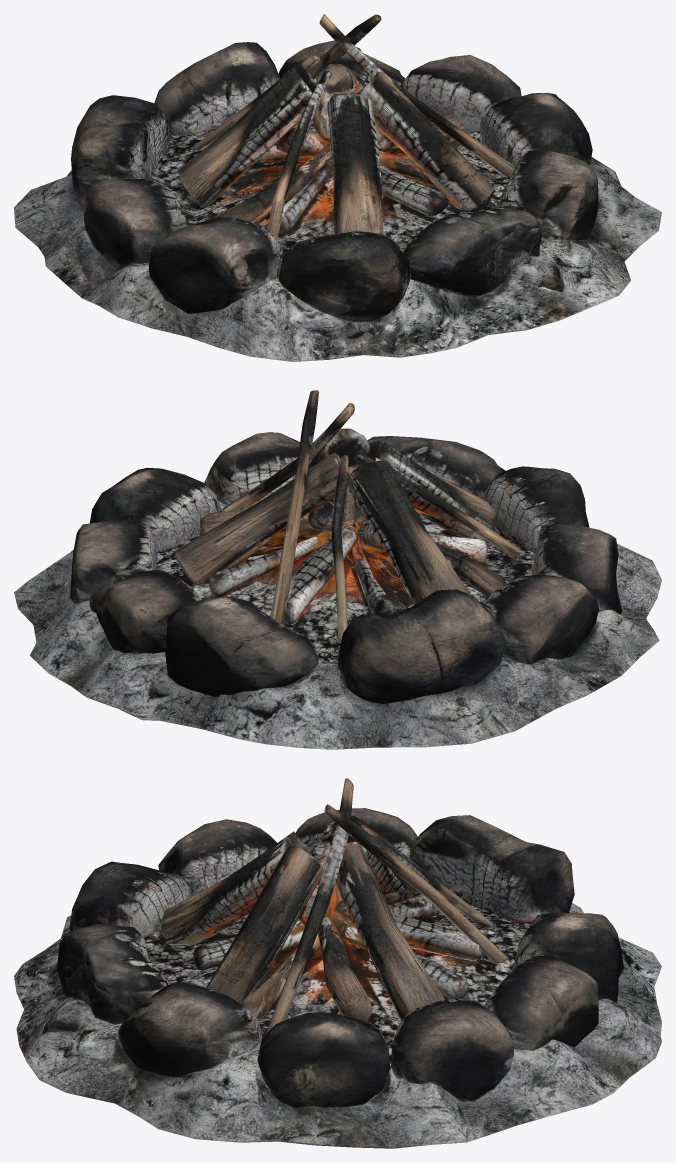
The model's file is fire.glb.
3 renders of one model, top to bottom at view 1: azimuth 30°, elevation 25°; view 2: azimuth 150°, elevation 25°; view 3: azimuth 270°, elevation 25°, orthographic. The views are drawn at different scales.
Visible parts, largest first — view 1: Mesh_0; view 2: Mesh_0; view 3: Mesh_0.
Boxes of the visible parts, x1,y1,x2,y2 form: Mesh_0: [14, 14, 661, 361]; Mesh_0: [14, 390, 661, 749]; Mesh_0: [14, 778, 661, 1148].
Size of the model in its own units: 0.7 by 0.2734 by 0.7.
Materials: 1 (1 with a texture image).
